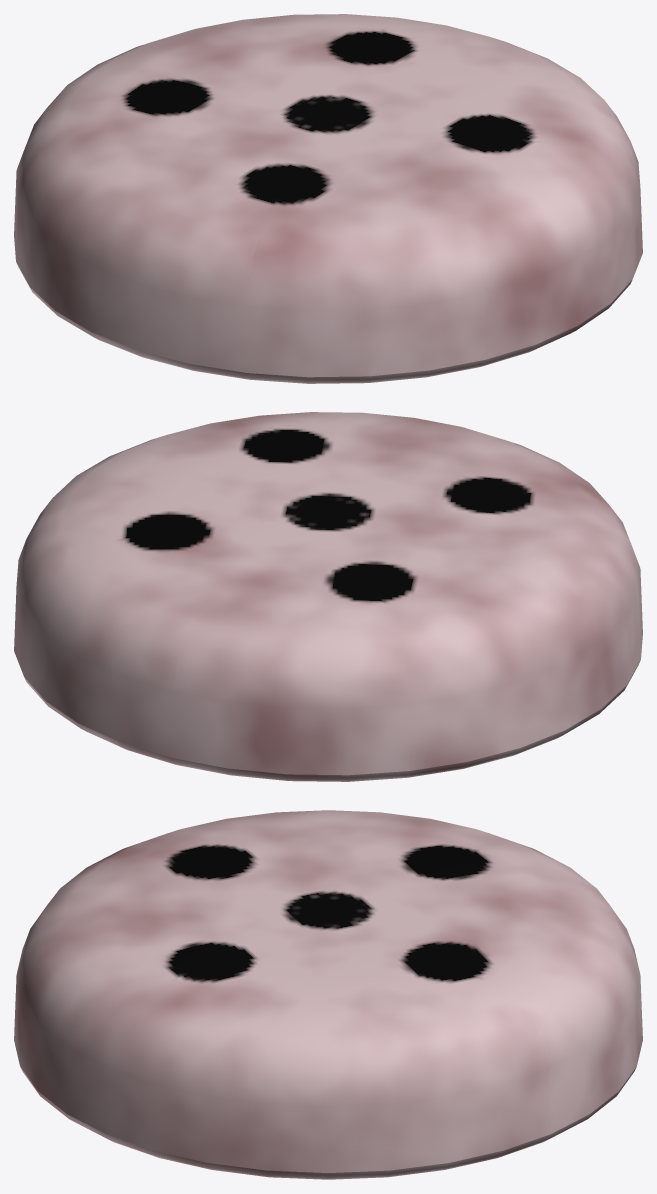
Rendered from WhitePiece.glb.
3 renders of one model, top to bottom at view 1: azimuth 30°, elevation 25°; view 2: azimuth 150°, elevation 25°; view 3: azimuth 270°, elevation 25°, orthographic.
Parts seen in each view (by area): view 1: White Piece; view 2: White Piece; view 3: White Piece.
Part boxes in pixels (<box>): White Piece: <box>14,14,642,383</box>; White Piece: <box>14,412,642,781</box>; White Piece: <box>14,810,642,1179</box>.
Bounding box in the file's own units: 0.5664 × 0.1507 × 0.5664.
Materials: 1 (1 with a texture image).
